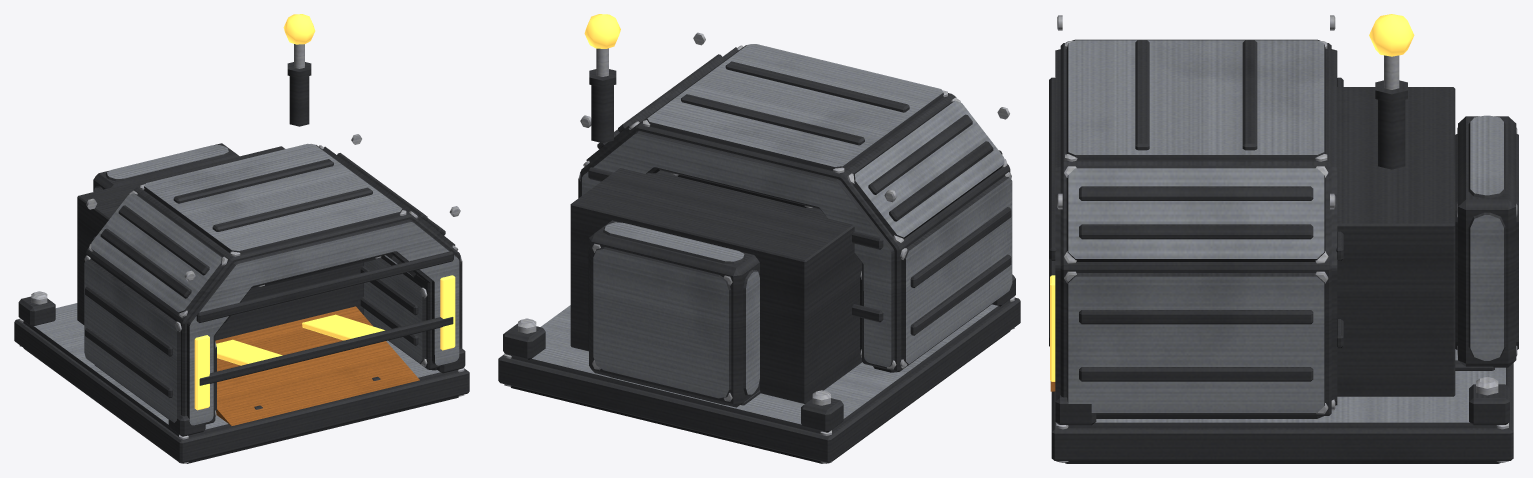
Rendered from R4X_GroundDroneDeployer.glb.
The picture shows the model from 3 angles, left to right: view 1: azimuth 30°, elevation 25°; view 2: azimuth 150°, elevation 25°; view 3: azimuth 270°, elevation 25°; orthographic projection. The views are drawn at different scales.
Parts seen in each view (by area): view 1: R4X_GroundDroneDeployer_Body; view 2: R4X_GroundDroneDeployer_Body; view 3: R4X_GroundDroneDeployer_Body.
Part boxes in pixels (x1,y1,x2,y2): R4X_GroundDroneDeployer_Body: (14, 14, 469, 463); R4X_GroundDroneDeployer_Body: (498, 14, 1020, 463); R4X_GroundDroneDeployer_Body: (1049, 14, 1518, 463).
Size of the model in its own units: 0.514 by 0.51 by 0.517.
Materials: 5 (4 with a texture image).
